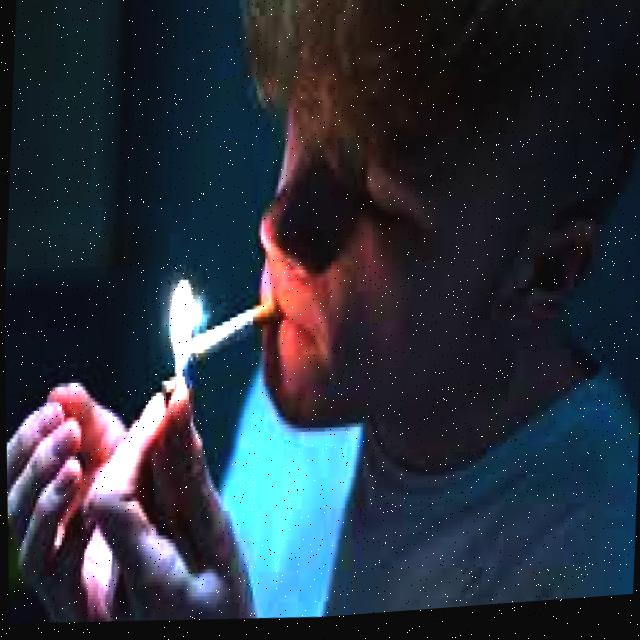Fire: (160, 258, 201, 372)
